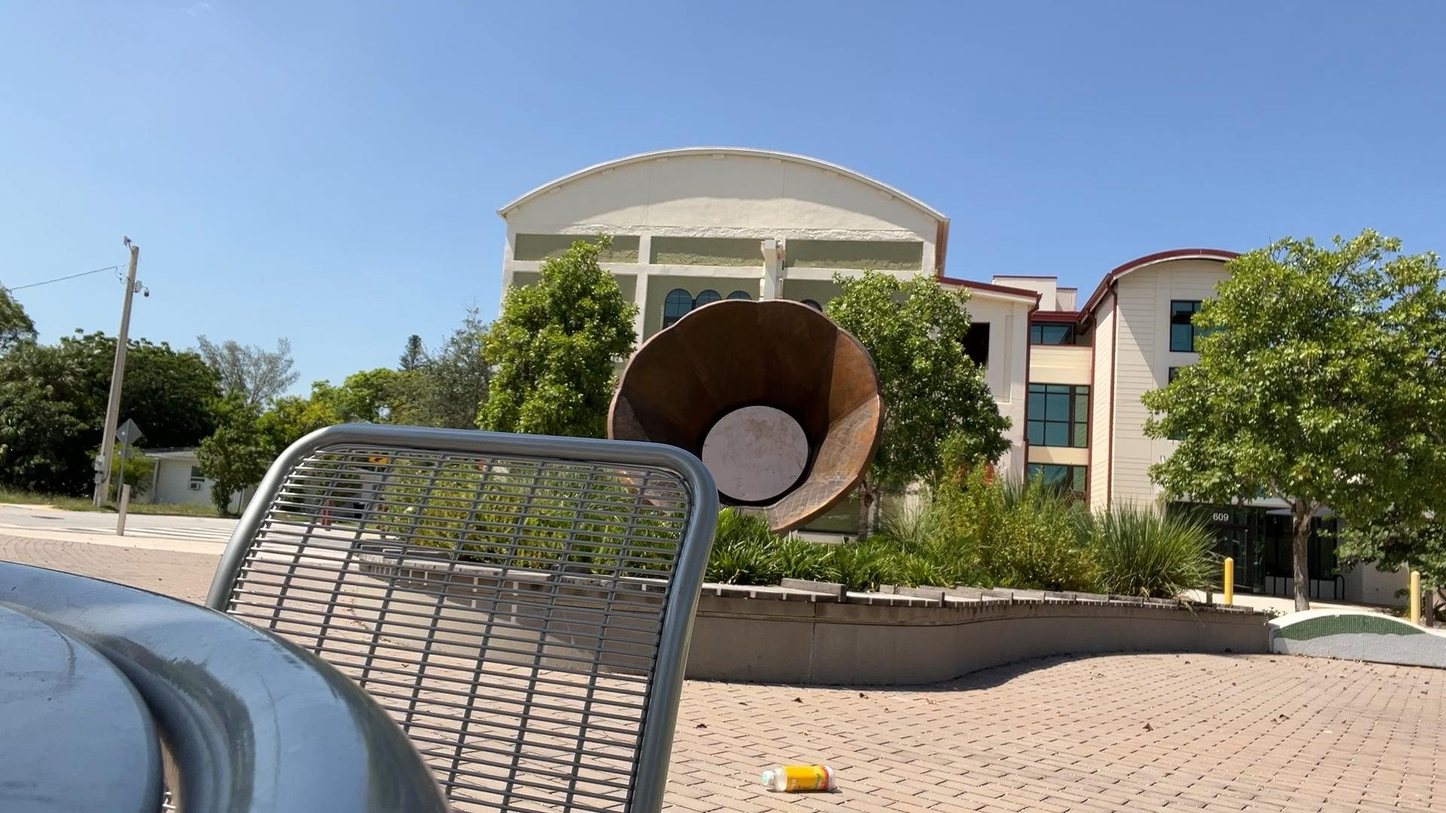Trash: (746, 748, 852, 804)
